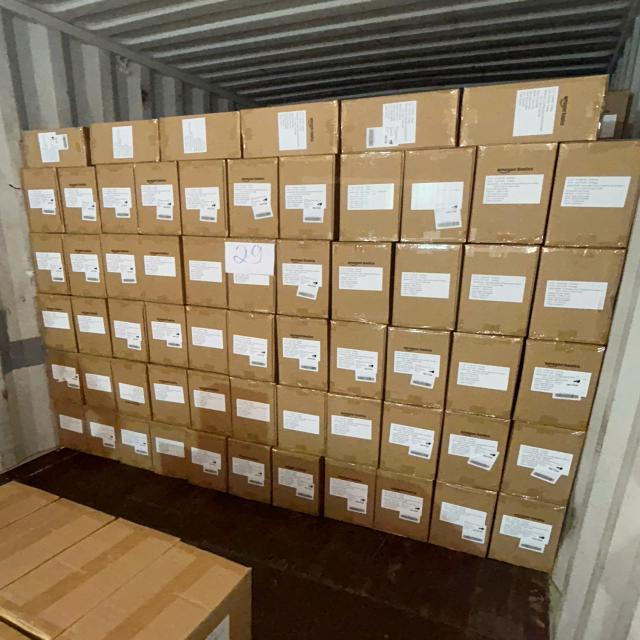Carton: (466, 80, 609, 150), (549, 138, 639, 245), (531, 246, 627, 344), (468, 143, 552, 247), (517, 338, 606, 430), (458, 242, 538, 337), (403, 147, 474, 246), (340, 95, 456, 155), (504, 421, 586, 504), (393, 245, 463, 331), (452, 332, 521, 419), (491, 494, 563, 576), (338, 152, 401, 244), (438, 412, 506, 492), (240, 103, 337, 158), (332, 244, 392, 328), (387, 326, 448, 407), (278, 154, 334, 242), (430, 483, 490, 563), (380, 400, 438, 481), (328, 321, 384, 402), (277, 238, 329, 320), (374, 470, 429, 546), (328, 394, 382, 470), (230, 158, 280, 240), (160, 113, 243, 161), (276, 314, 327, 391), (224, 238, 274, 314), (276, 383, 327, 456), (324, 459, 375, 532), (182, 160, 229, 239), (226, 311, 274, 385), (271, 448, 321, 518), (136, 235, 183, 307), (135, 162, 180, 236), (185, 238, 228, 312), (87, 121, 158, 165), (231, 380, 277, 447), (104, 235, 148, 304), (144, 304, 188, 370), (188, 371, 232, 436), (226, 440, 270, 505), (62, 234, 105, 300), (41, 346, 88, 406), (22, 126, 89, 168), (188, 307, 229, 375), (60, 170, 101, 238), (99, 166, 139, 235), (190, 428, 231, 494), (80, 401, 124, 462), (22, 168, 62, 234), (148, 366, 189, 429), (50, 396, 90, 460), (152, 425, 193, 487), (110, 300, 148, 364), (71, 300, 109, 361), (37, 294, 76, 353), (33, 234, 70, 296), (114, 363, 152, 421), (118, 416, 154, 474), (77, 354, 113, 409)
